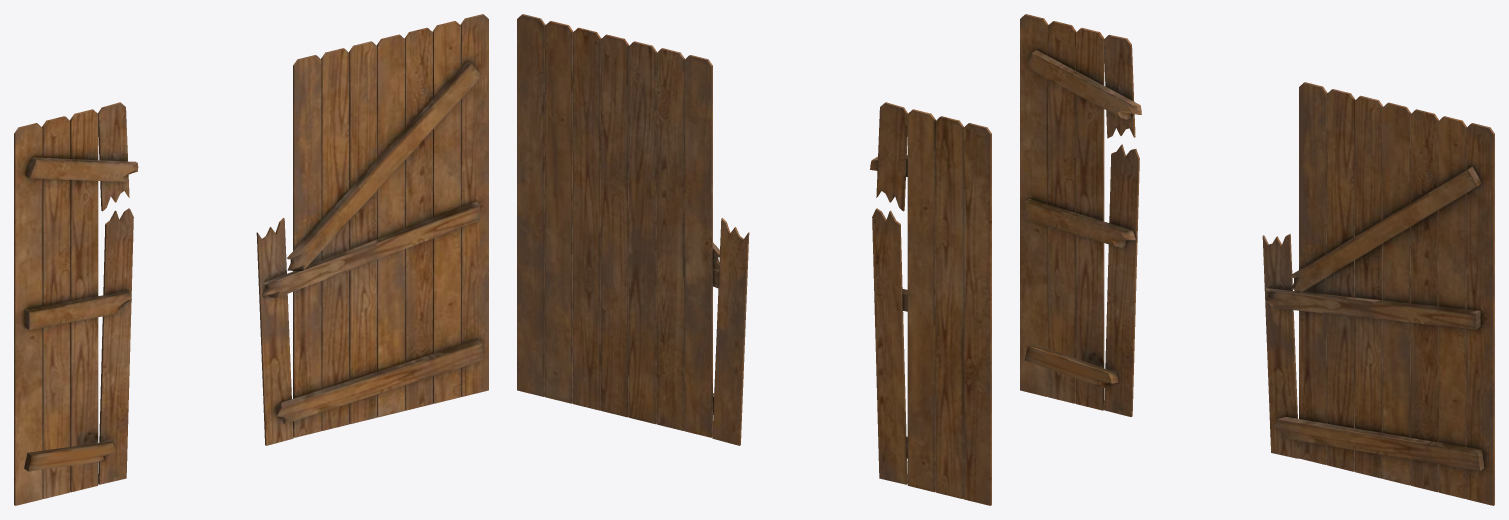
The model's file is privacy-fence-broken.lod0.glb.
3 renders of one model, left to right at view 1: azimuth 30°, elevation 25°; view 2: azimuth 150°, elevation 25°; view 3: azimuth 330°, elevation 25°, orthographic.
Parts seen in each view (by area): view 1: Fence_17_Broken_Large_Fence_17_Broken_Large_map_0; view 2: Fence_17_Broken_Large_Fence_17_Broken_Large_map_0; view 3: Fence_17_Broken_Large_Fence_17_Broken_Large_map_0.
Boxes of the visible parts, <box> form: Fence_17_Broken_Large_Fence_17_Broken_Large_map_0: <box>14,14,488,505</box>; Fence_17_Broken_Large_Fence_17_Broken_Large_map_0: <box>517,14,991,505</box>; Fence_17_Broken_Large_Fence_17_Broken_Large_map_0: <box>1020,14,1494,505</box>.
Bounding box in the file's own units: 2.72 × 2.08 × 0.0578.
Materials: 1 (1 with a texture image).
